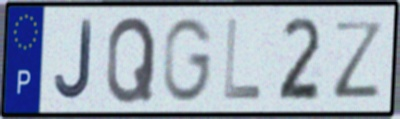2: (276, 14, 324, 105)
G: (162, 15, 216, 105)
J: (53, 18, 95, 103)
L: (221, 16, 265, 103)
Q: (103, 13, 159, 106)
Z: (332, 18, 387, 100)
